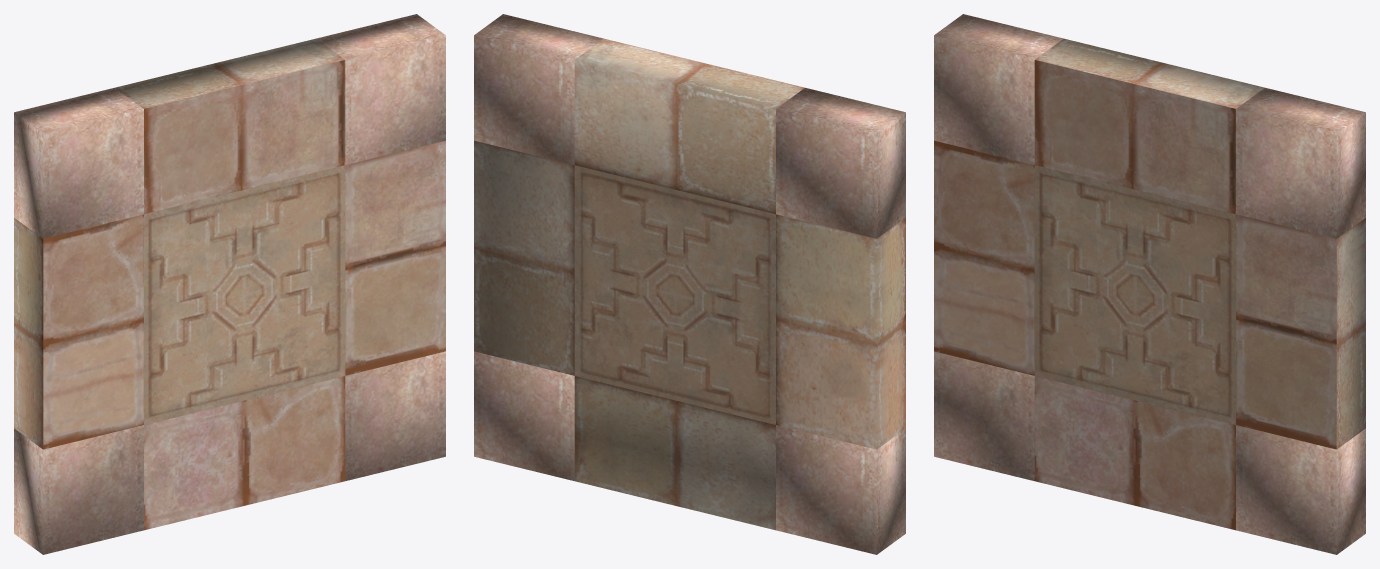
The model's file is Lift002.obj.
3 views of the same model, side by side, from view 1: azimuth 30°, elevation 25°; view 2: azimuth 150°, elevation 25°; view 3: azimuth 330°, elevation 25° (orthographic).
Visible parts, largest first — view 1: polySurface166__EdgeStoneBlock02, polySurface175__StonePillar00, polySurface170__StoneLift01, polySurface175__Stone_Lift00; view 2: polySurface175__Stone_Lift00, polySurface175__StonePillar00, polySurface170__StoneLift01; view 3: polySurface166__EdgeStoneBlock02, polySurface175__StonePillar00, polySurface170__StoneLift01, polySurface175__Stone_Lift00.
Boxes of the visible parts, x1,y1,x2,y2 form: polySurface166__EdgeStoneBlock02: [43, 60, 445, 530]; polySurface175__StonePillar00: [14, 14, 445, 554]; polySurface170__StoneLift01: [144, 165, 345, 424]; polySurface175__Stone_Lift00: [14, 38, 344, 449]; polySurface175__Stone_Lift00: [474, 38, 905, 530]; polySurface175__StonePillar00: [474, 14, 905, 554]; polySurface170__StoneLift01: [574, 165, 775, 424]; polySurface166__EdgeStoneBlock02: [934, 60, 1336, 530]; polySurface175__StonePillar00: [934, 14, 1365, 554]; polySurface170__StoneLift01: [1034, 165, 1235, 424]; polySurface175__Stone_Lift00: [1035, 38, 1365, 449].
Bounding box in the file's own units: 400 × 400 × 50.01.
5 materials, 4 textured.
